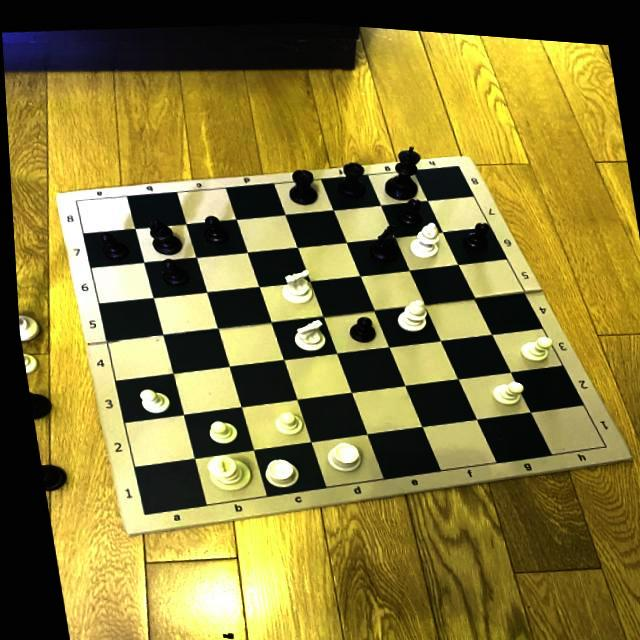chess-table-corners: (132, 504, 146, 516), (593, 432, 608, 441), (449, 155, 464, 163), (68, 196, 80, 206)
